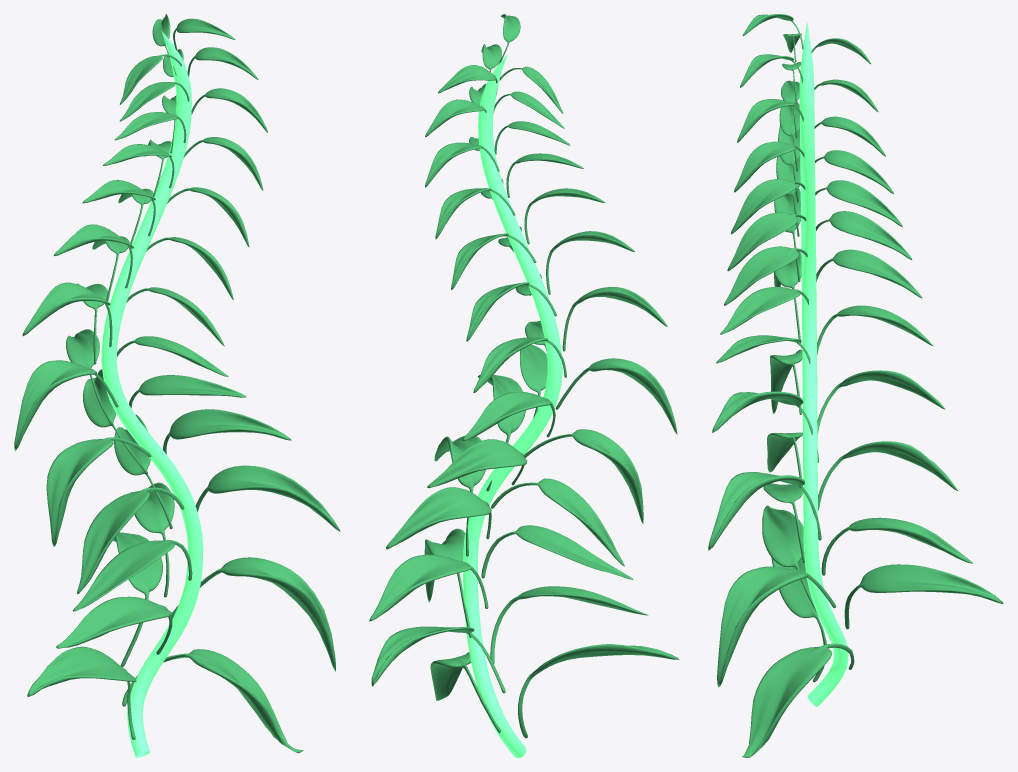
The model's file is Plant2_Large.fbx.
3 views of the same model, side by side, from view 1: azimuth 30°, elevation 25°; view 2: azimuth 150°, elevation 25°; view 3: azimuth 270°, elevation 25° (orthographic). The views are drawn at different scales.
Visible parts, largest first — view 1: Leaf, Stem; view 2: Leaf, Stem; view 3: Leaf, Stem.
Part boxes in pixels (x1,y1,x2,y2): Leaf: (14,14,340,753); Stem: (101,30,203,757); Leaf: (369,14,679,738); Stem: (463,54,562,757); Leaf: (708,14,1003,757); Stem: (799,22,848,706).
Size of the model in its own units: 351 by 858 by 324.
